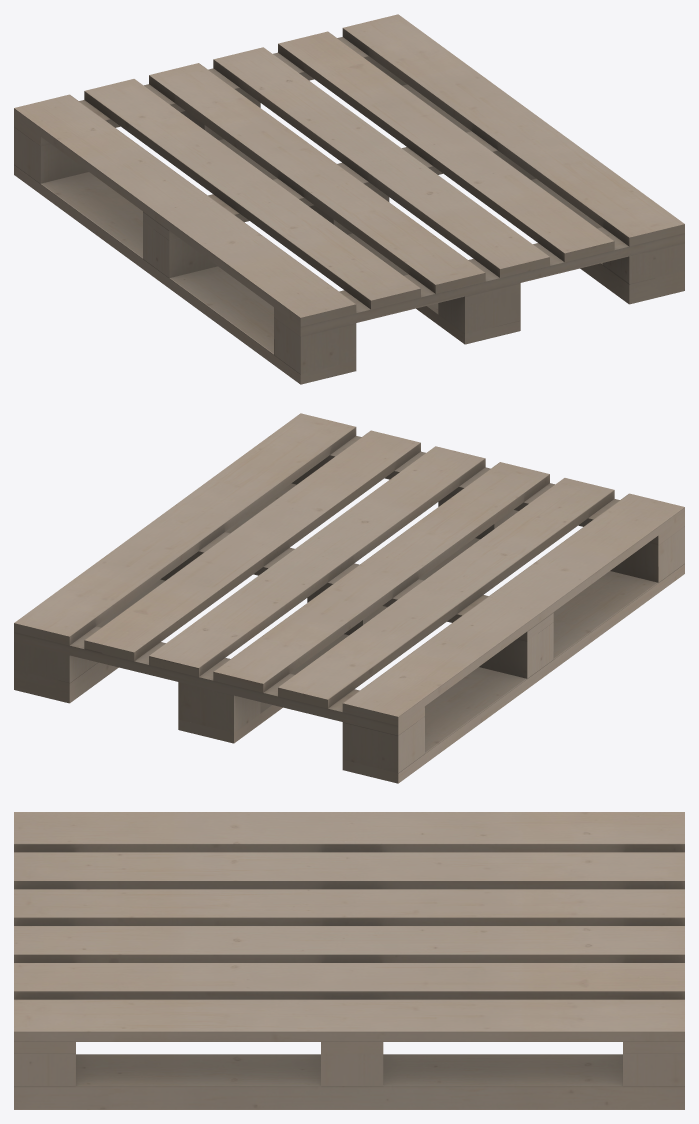
The model's file is SND_tuopan.glb.
The picture shows the model from 3 angles, top to bottom: view 1: azimuth 30°, elevation 25°; view 2: azimuth 150°, elevation 25°; view 3: azimuth 270°, elevation 25°; orthographic projection. The views are drawn at different scales.
Visible parts, largest first — view 1: Asset3DLoader.sceneRoot; view 2: Asset3DLoader.sceneRoot; view 3: Asset3DLoader.sceneRoot.
Boxes of the visible parts, x1,y1,x2,y2 form: Asset3DLoader.sceneRoot: (14, 14, 684, 384); Asset3DLoader.sceneRoot: (14, 413, 684, 783); Asset3DLoader.sceneRoot: (14, 812, 684, 1109).
Size of the model in its own units: 901 by 150 by 1164.
1 material, 1 textured.
